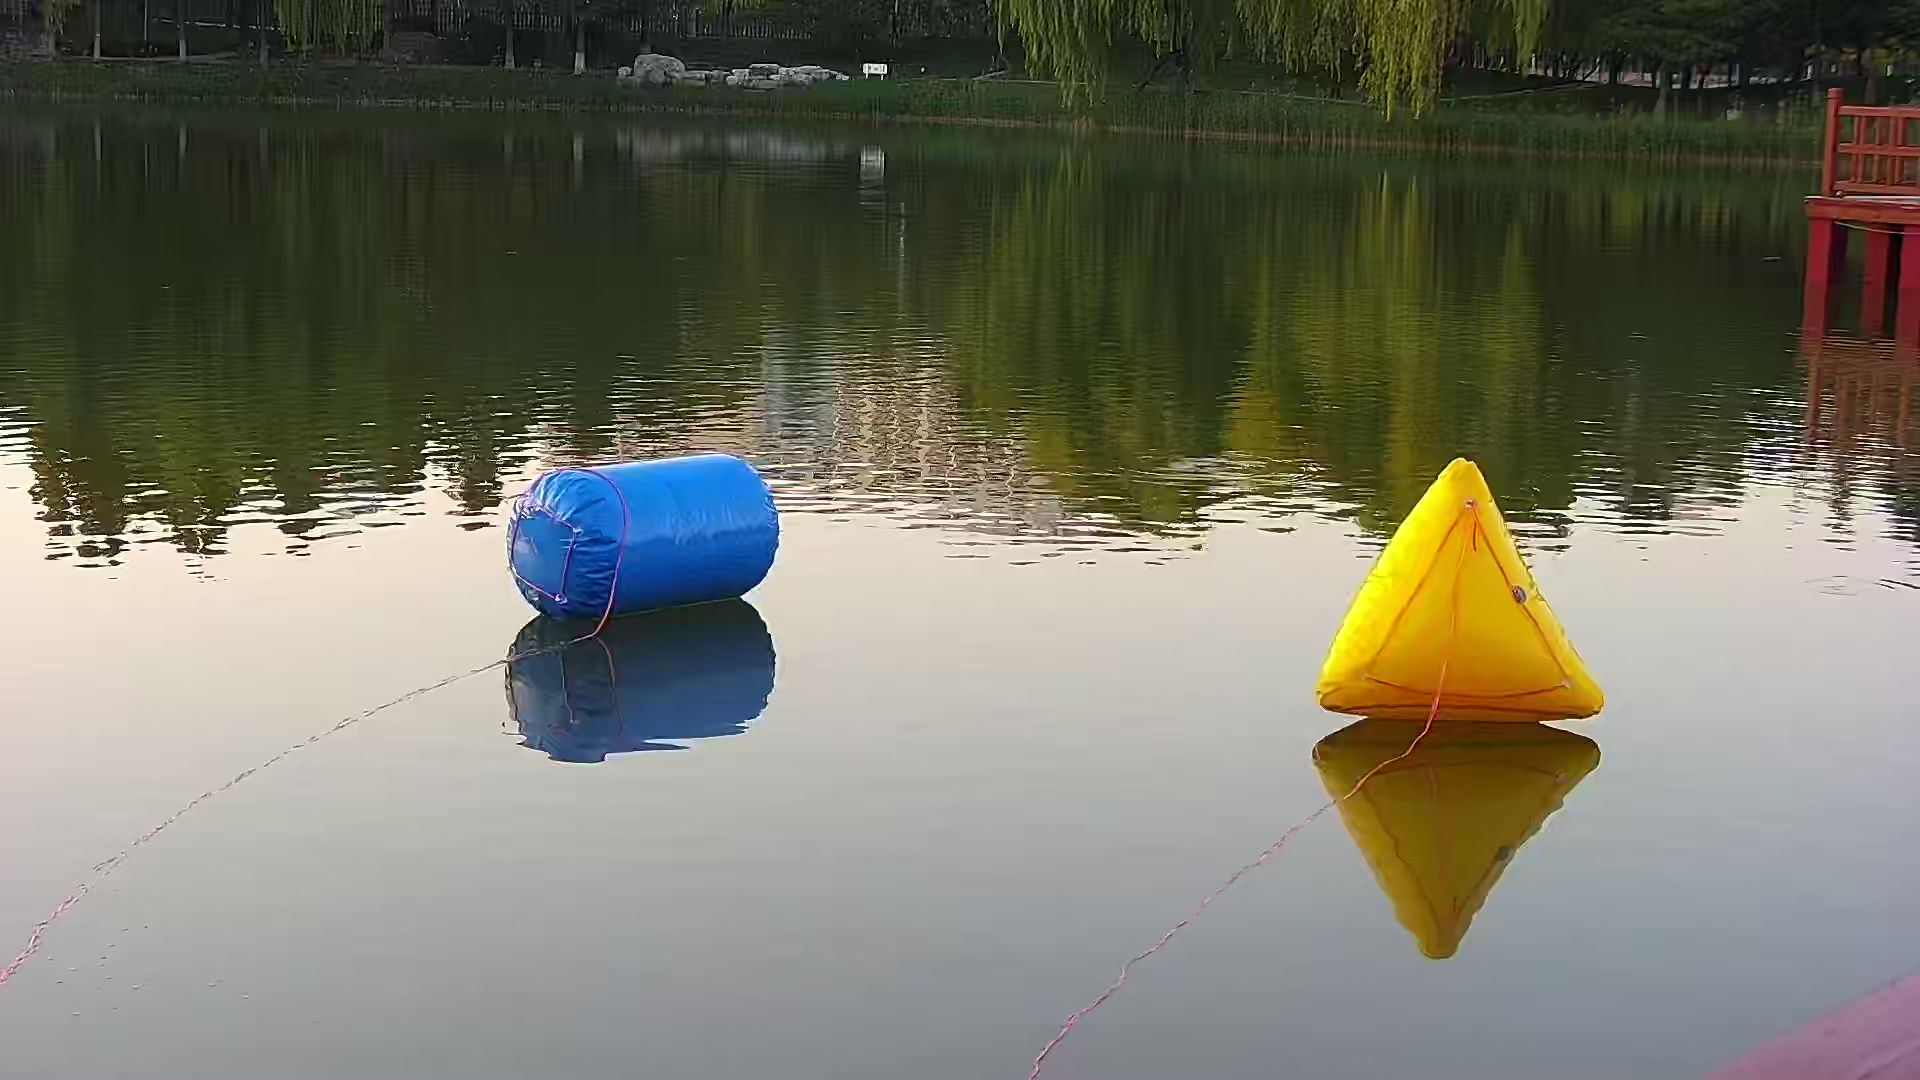rubbish: (1303, 451, 1607, 727), (501, 444, 786, 620)
